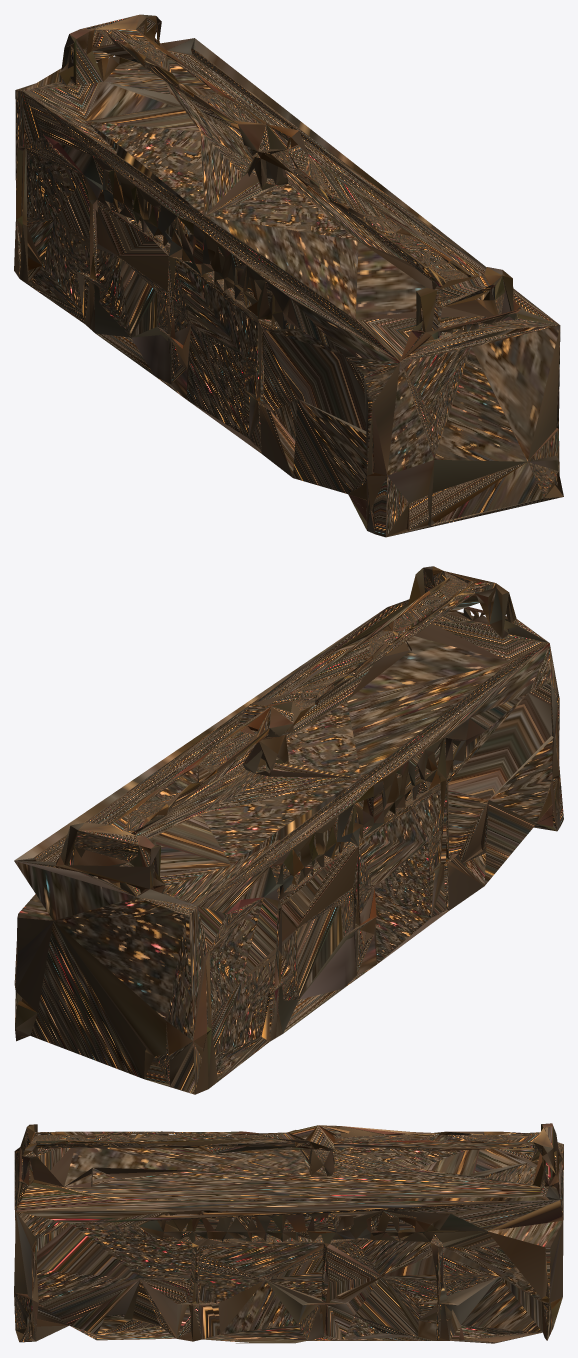
Rendered from h01_far.glb.
3 views of the same model, one above another, from view 1: azimuth 30°, elevation 25°; view 2: azimuth 150°, elevation 25°; view 3: azimuth 270°, elevation 25° (orthographic). The views are drawn at different scales.
Parts seen in each view (by area): view 1: h01_far; view 2: h01_far; view 3: h01_far.
Part boxes in pixels (box(x1,y1,x2,y2)): h01_far: box(14, 14, 563, 537); h01_far: box(14, 566, 563, 1094); h01_far: box(14, 1123, 563, 1343).
Size of the model in its own units: 11.76 by 14 by 38.14.
Materials: 1 (1 with a texture image).
